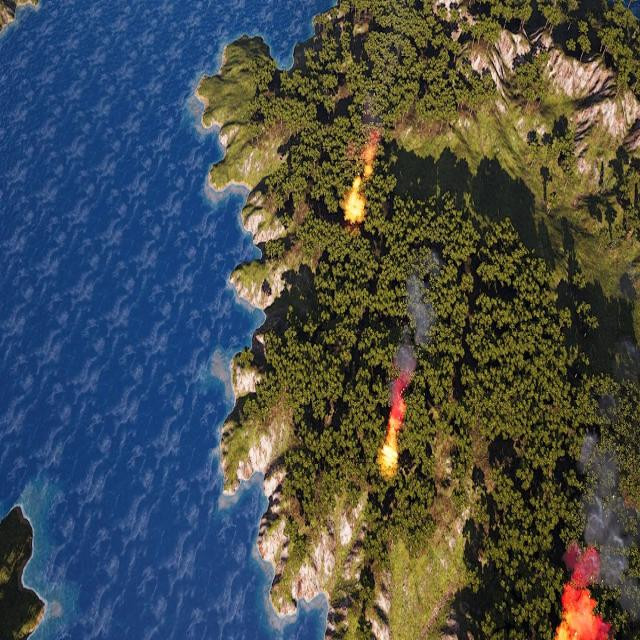fire: (381, 412, 401, 469), (345, 184, 365, 223), (361, 133, 376, 178)
smoke: (554, 334, 639, 640), (386, 258, 439, 431)
